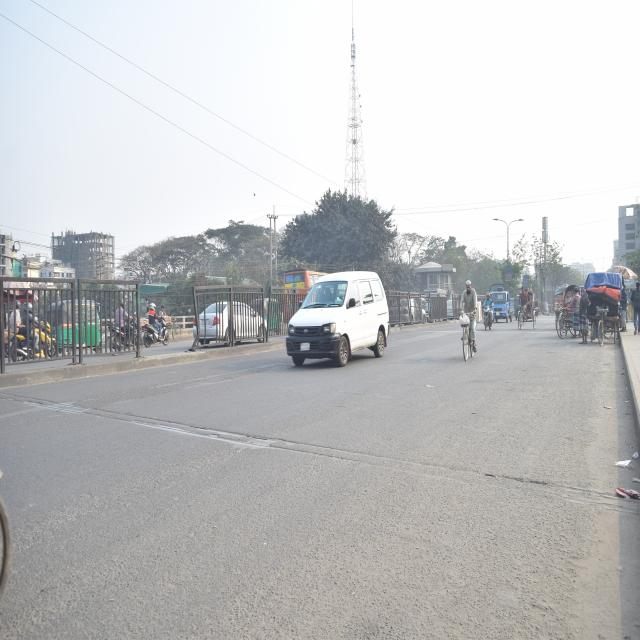microbus: (281, 260, 390, 384)
motorbike: (481, 294, 496, 332)
pickup-van: (140, 306, 172, 353), (494, 284, 516, 324)
